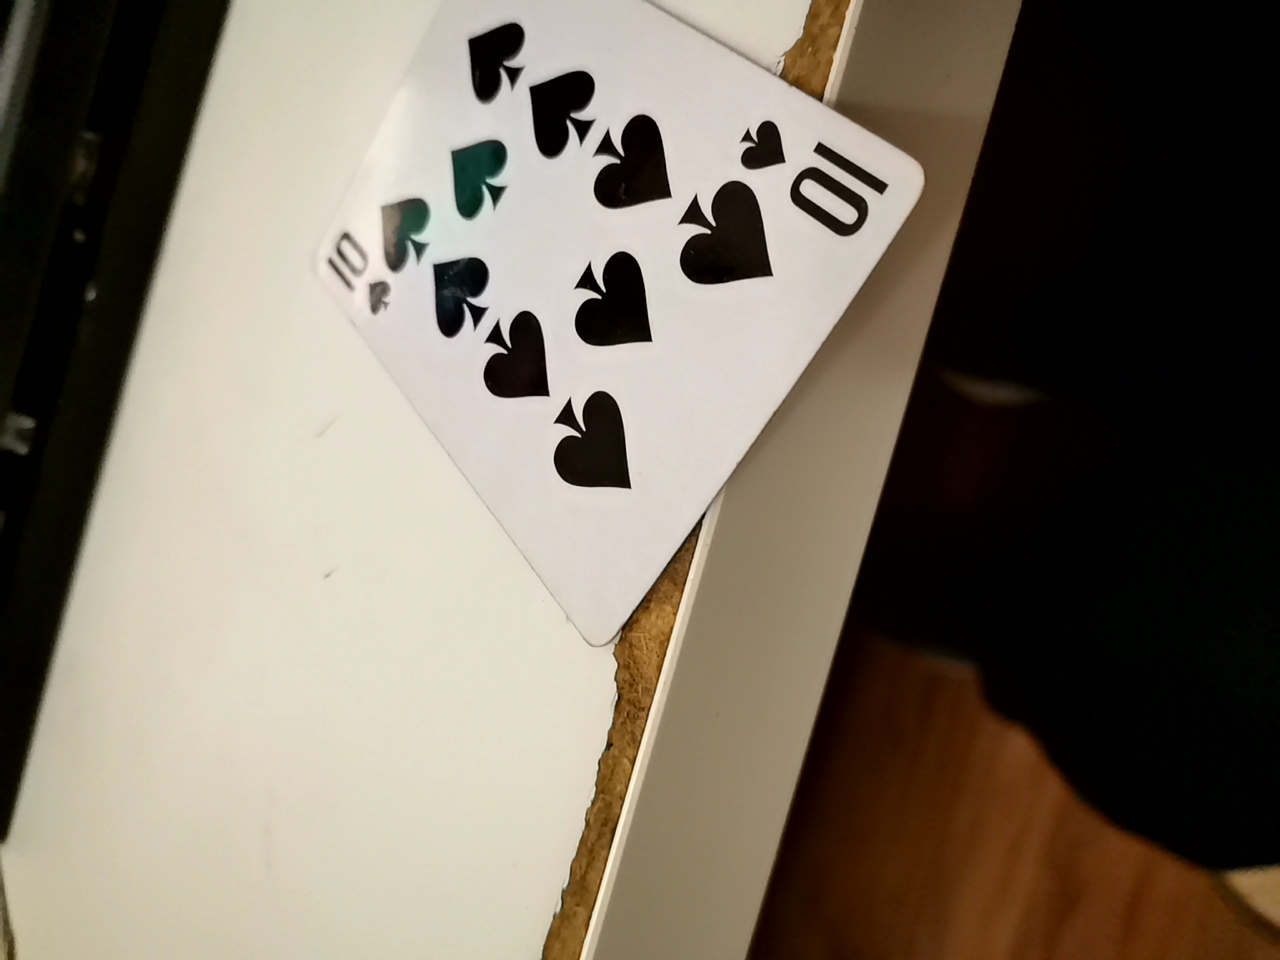ht 10: (313, 0, 932, 685)
